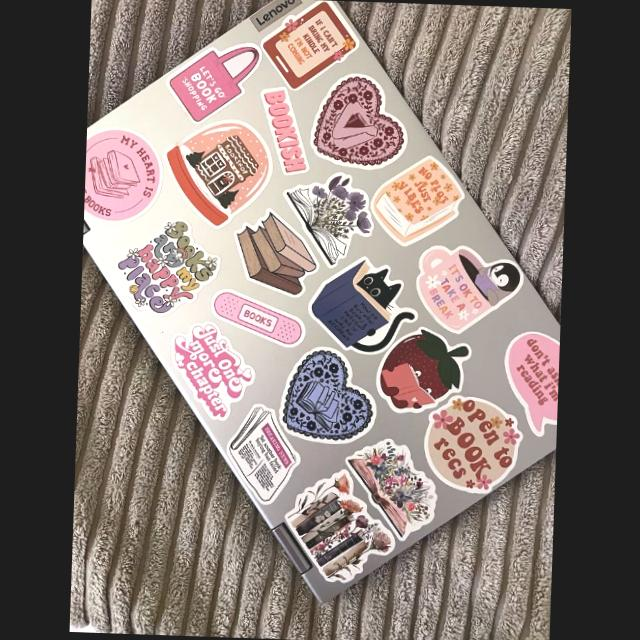laptop: (75, 12, 558, 590)
